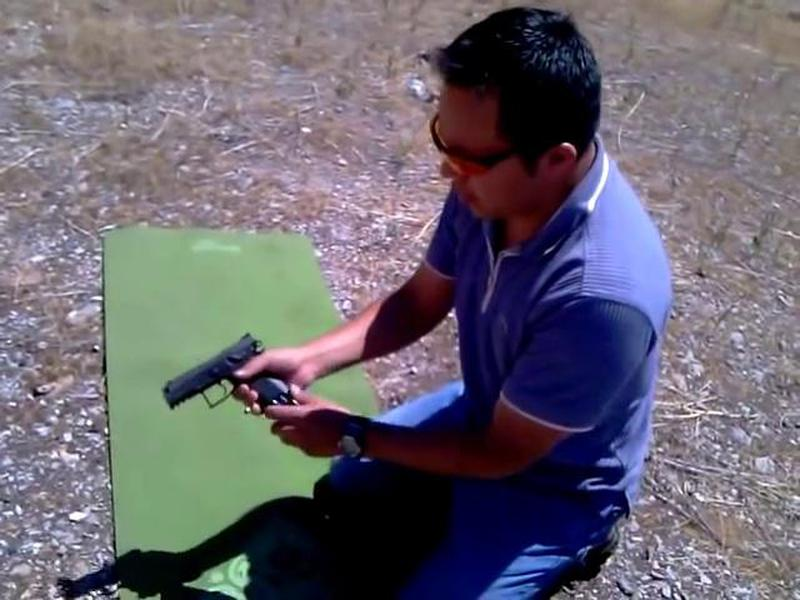Pistola: (138, 324, 306, 436)
